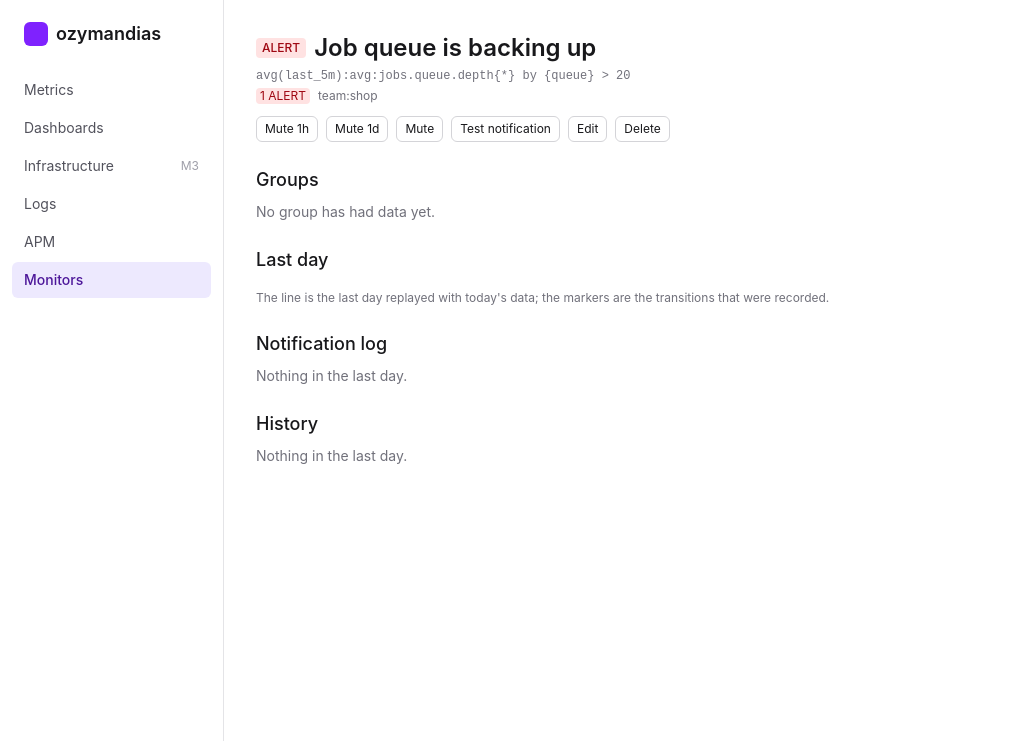
Scenario: EditMonitorPage › starts the draft from a fresh read, not the cache
Click the link "Edit": (588, 129) [568,116,607,142]
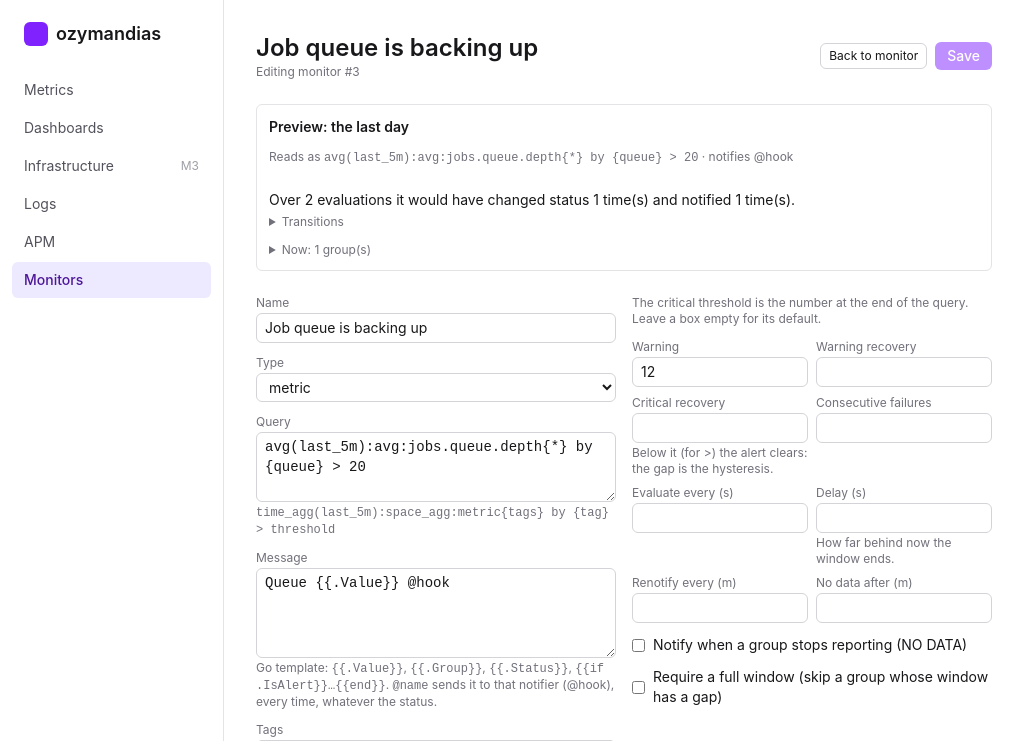
Expected: the field labelled "Warning" holds "12", [632,357,808,387]
